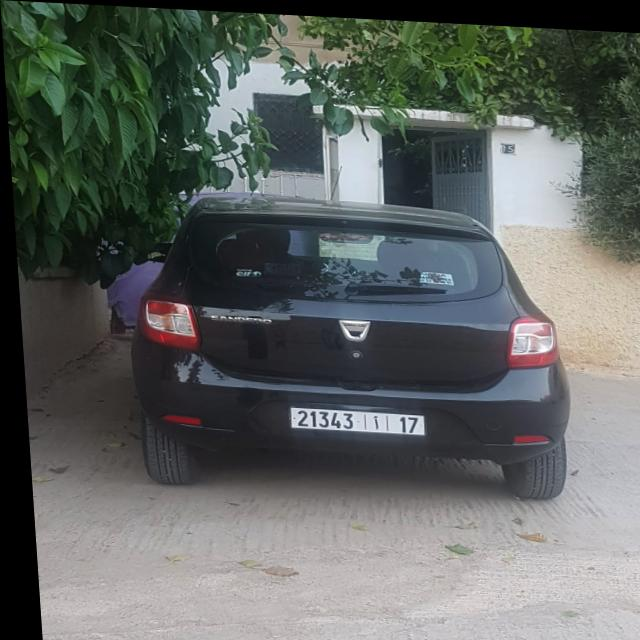License-Plate: (284, 405, 420, 431)
